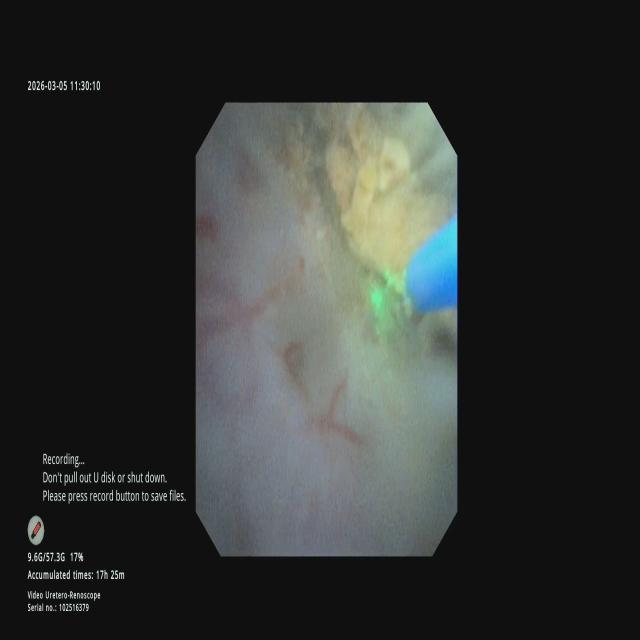laser_dot: (369, 287, 389, 322)
stone-new: (316, 104, 435, 276)
